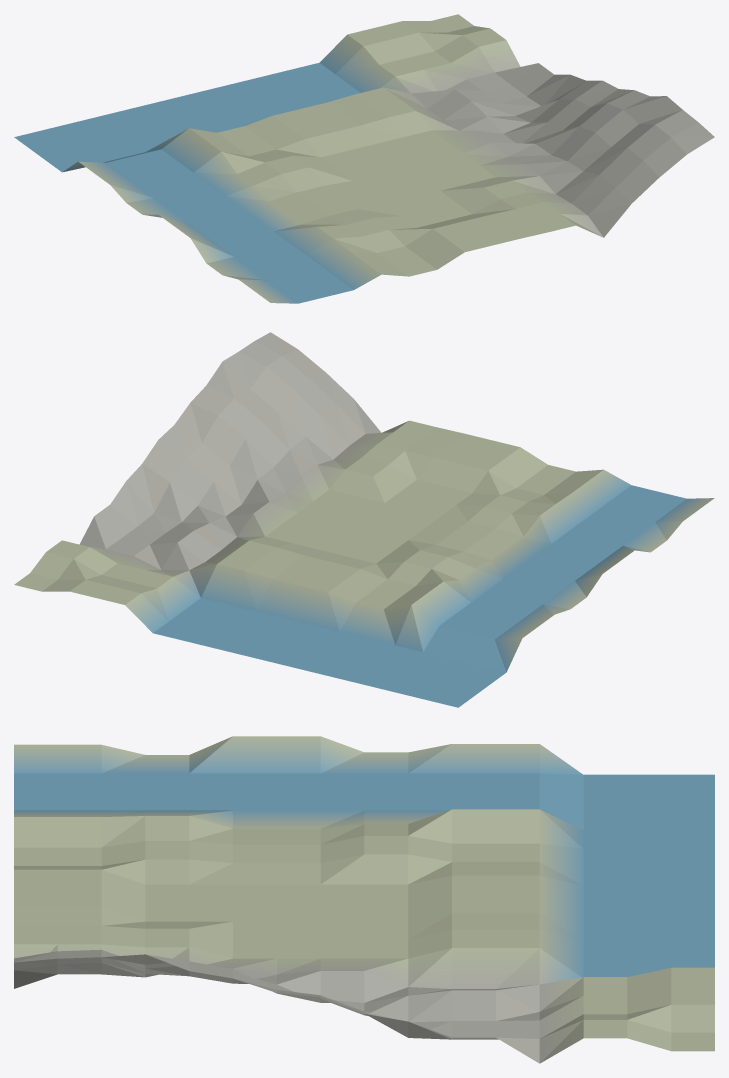
The picture shows the model from 3 angles, top to bottom: view 1: azimuth 30°, elevation 25°; view 2: azimuth 150°, elevation 25°; view 3: azimuth 270°, elevation 25°; orthographic projection. The views are drawn at different scales.
Bounding box in the file's own units: 32 × 5.88 × 32.
